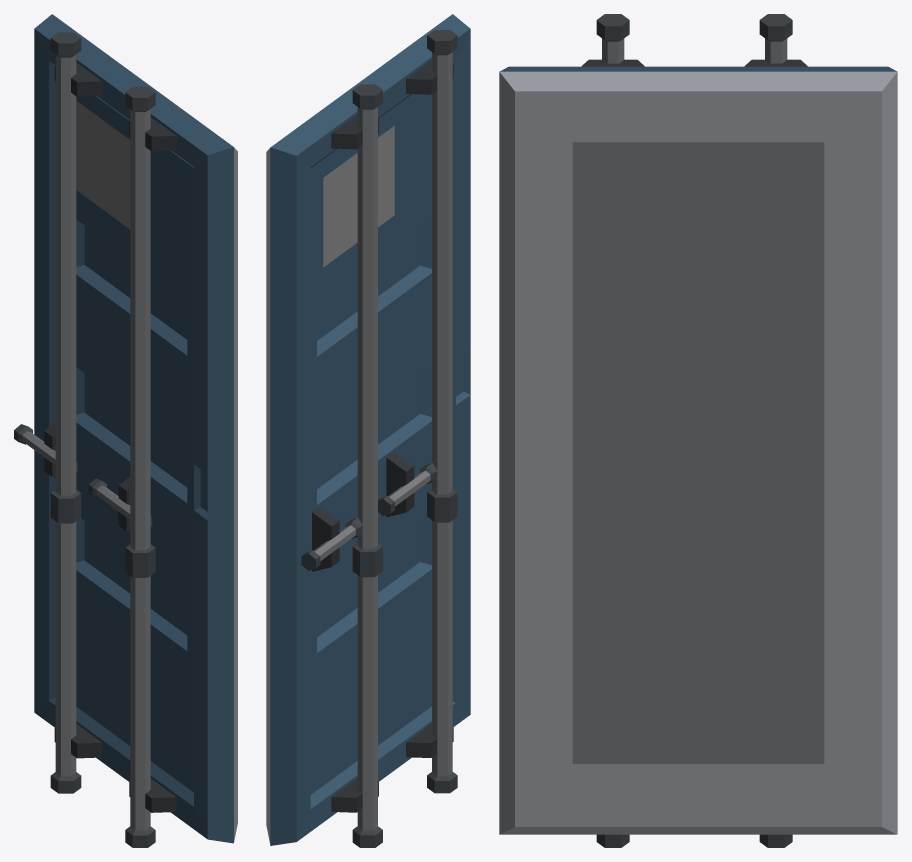
File: SM_Prop_Container_Doors_01_Door_02.fbx
3 renders of one model, left to right at view 1: azimuth 30°, elevation 25°; view 2: azimuth 150°, elevation 25°; view 3: azimuth 270°, elevation 25°, orthographic. The views are drawn at different scales.
Parts seen in each view (by area): view 1: SM_Prop_Container_Doors_01_Door_02; view 2: SM_Prop_Container_Doors_01_Door_02; view 3: SM_Prop_Container_Doors_01_Door_02.
Boxes of the visible parts, <box> form: SM_Prop_Container_Doors_01_Door_02: <box>14,14,237,847</box>; SM_Prop_Container_Doors_01_Door_02: <box>266,14,470,847</box>; SM_Prop_Container_Doors_01_Door_02: <box>499,14,897,847</box>.
Bounding box in the file's own units: 21.81 × 244 × 107.
